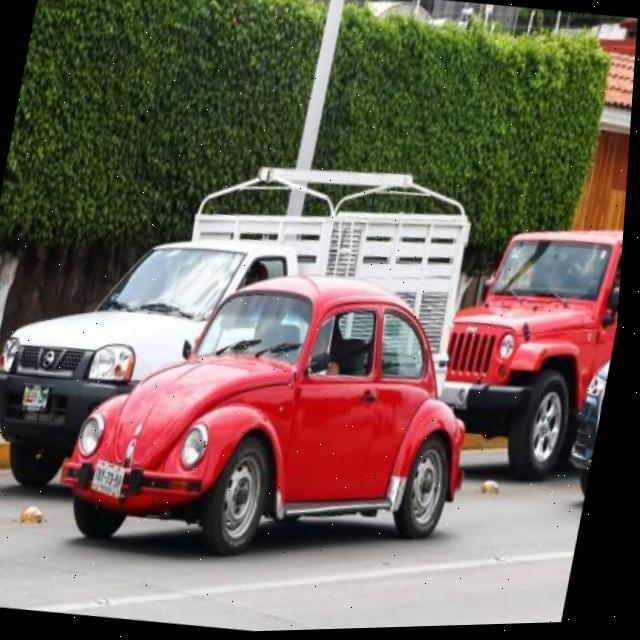vehicle: (54, 248, 506, 566), (0, 211, 465, 518), (434, 230, 627, 476)
